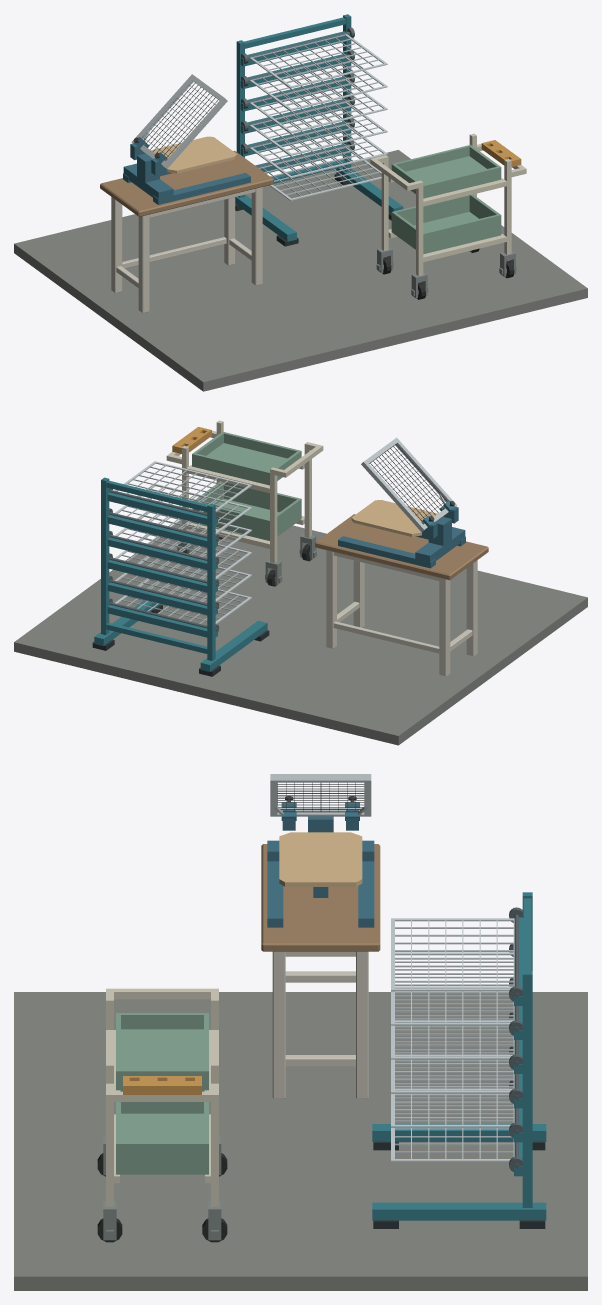
3 renders of one model, top to bottom at view 1: azimuth 30°, elevation 25°; view 2: azimuth 150°, elevation 25°; view 3: azimuth 270°, elevation 25°, orthographic. The views are drawn at different scales.
Parts seen in each view (by area): view 1: SceneOnlyScreenPrintingFloor, LowerDeepContinuousBasin, Complete work surface, UpperShallowContinuousBasin, Tray_06_WeldedOpenGrid, Tray_03_WeldedOpenGrid, Tray_05_WeldedOpenGrid, Tray_04_WeldedOpenGrid, Tray_02_WeldedOpenGrid, Tray_01_WeldedOpenGrid, WholeBlankCantileverPlaten, WholeRaisedScreenFrame (+26 smaller); view 2: SceneOnlyScreenPrintingFloor, Complete work surface, UpperShallowContinuousBasin, LowerDeepContinuousBasin, Tray_06_WeldedOpenGrid, WholeBlankCantileverPlaten, WholeRaisedScreenFrame, RearSpine_Left, RearSpine_Right, Worktable leg.001, WholeConnectedOpenScreenLattice, Tray_05_WeldedOpenGrid (+28 smaller); view 3: SceneOnlyScreenPrintingFloor, Complete work surface, LowerDeepContinuousBasin, UpperShallowContinuousBasin, WholeBlankCantileverPlaten, Tray_06_WeldedOpenGrid, Tray_03_WeldedOpenGrid, Tray_02_WeldedOpenGrid, Tray_04_WeldedOpenGrid, Tray_05_WeldedOpenGrid, Tray_01_WeldedOpenGrid, BaseSkid_Right (+16 smaller).
Part boxes in pixels (bbox=[...]): SceneOnlyScreenPrintingFloor: bbox=[14, 150, 587, 391]; LowerDeepContinuousBasin: bbox=[391, 194, 501, 254]; Complete work surface: bbox=[100, 150, 273, 216]; UpperShallowContinuousBasin: bbox=[391, 144, 501, 198]; Tray_06_WeldedOpenGrid: bbox=[249, 34, 387, 88]; Tray_03_WeldedOpenGrid: bbox=[249, 102, 387, 155]; Tray_05_WeldedOpenGrid: bbox=[249, 57, 387, 110]; Tray_04_WeldedOpenGrid: bbox=[249, 80, 387, 133]; Tray_02_WeldedOpenGrid: bbox=[249, 125, 387, 178]; Tray_01_WeldedOpenGrid: bbox=[259, 147, 381, 200]; WholeBlankCantileverPlaten: bbox=[151, 136, 237, 173]; WholeRaisedScreenFrame: bbox=[131, 74, 227, 168]; SceneOnlyScreenPrintingFloor: bbox=[14, 520, 587, 745]; Complete work surface: bbox=[315, 514, 488, 580]; UpperShallowContinuousBasin: bbox=[192, 431, 301, 485]; LowerDeepContinuousBasin: bbox=[193, 481, 301, 540]; Tray_06_WeldedOpenGrid: bbox=[115, 461, 251, 511]; WholeBlankCantileverPlaten: bbox=[351, 500, 437, 536]; WholeRaisedScreenFrame: bbox=[361, 437, 457, 532]; RearSpine_Left: bbox=[207, 503, 215, 660]; RearSpine_Right: bbox=[101, 477, 109, 634]; Worktable leg.001: bbox=[439, 578, 450, 676]; WholeConnectedOpenScreenLattice: bbox=[369, 444, 447, 521]; Tray_05_WeldedOpenGrid: bbox=[115, 484, 251, 534]; SceneOnlyScreenPrintingFloor: bbox=[14, 992, 587, 1290]; Complete work surface: bbox=[261, 844, 380, 951]; LowerDeepContinuousBasin: bbox=[116, 1090, 208, 1174]; UpperShallowContinuousBasin: bbox=[116, 1013, 208, 1090]; WholeBlankCantileverPlaten: bbox=[279, 832, 362, 886]; Tray_06_WeldedOpenGrid: bbox=[391, 918, 514, 991]; Tray_03_WeldedOpenGrid: bbox=[391, 1020, 514, 1093]; Tray_02_WeldedOpenGrid: bbox=[391, 1054, 514, 1127]; Tray_04_WeldedOpenGrid: bbox=[391, 986, 514, 1059]; Tray_05_WeldedOpenGrid: bbox=[391, 952, 514, 1025]; Tray_01_WeldedOpenGrid: bbox=[391, 1088, 514, 1161]; BaseSkid_Right: bbox=[372, 1202, 546, 1220].
Bounding box in the file's own units: 3.4 × 1.73 × 2.9.
